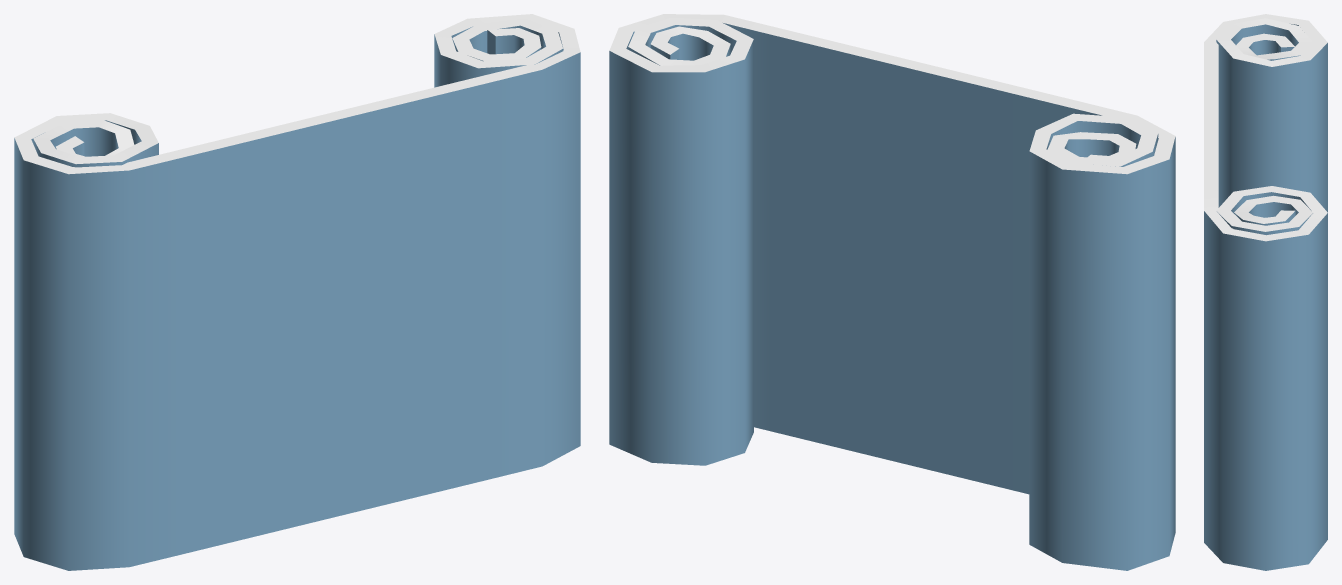
Rendered from BuildingKit.fbx.
The picture shows the model from 3 angles, left to right: view 1: azimuth 30°, elevation 25°; view 2: azimuth 150°, elevation 25°; view 3: azimuth 270°, elevation 25°; orthographic projection. The views are drawn at different scales.
Visible parts, largest first — view 1: BezierCurve.001; view 2: BezierCurve.001; view 3: BezierCurve.001.
Boxes of the visible parts, x1,y1,x2,y2 form: BezierCurve.001: [14, 14, 580, 570]; BezierCurve.001: [609, 14, 1175, 570]; BezierCurve.001: [1204, 14, 1327, 570].
Bounding box in the file's own units: 97.63 × 68.72 × 22.74.
